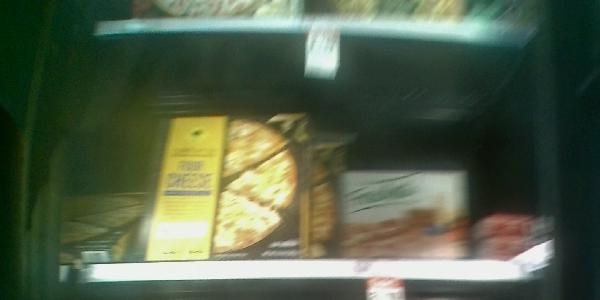pizza: (142, 112, 312, 262), (338, 171, 465, 258), (60, 194, 148, 255)
pizza1: (474, 240, 566, 263), (478, 212, 548, 239)
